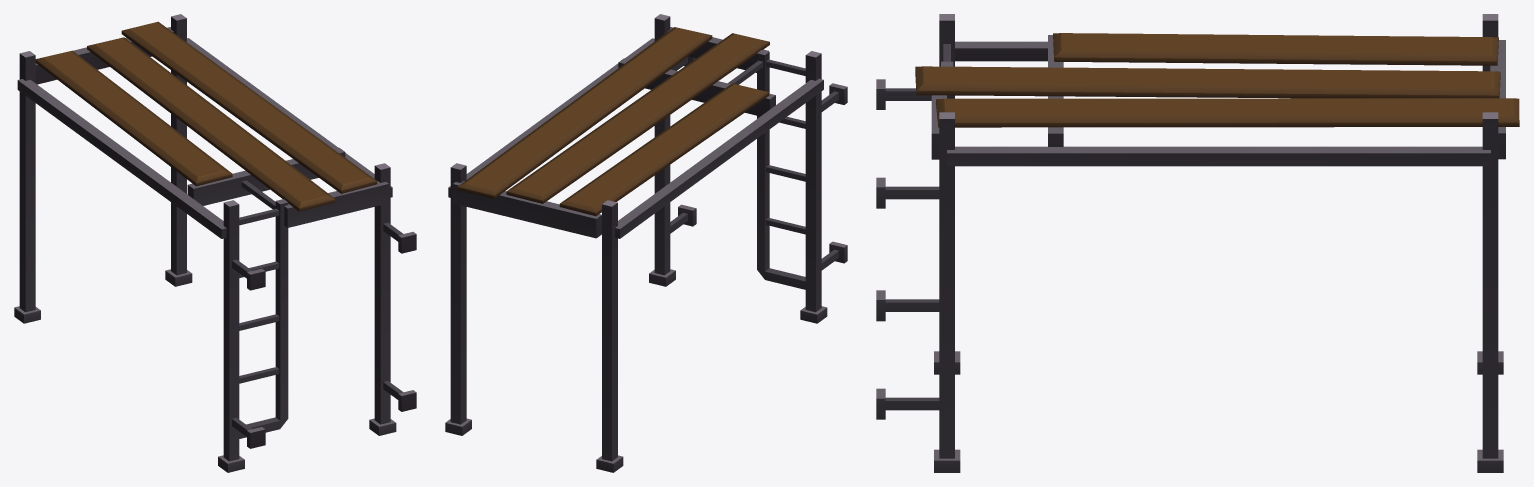
The model's file is Scaffolding_1B.fbx.
The picture shows the model from 3 angles, left to right: view 1: azimuth 30°, elevation 25°; view 2: azimuth 150°, elevation 25°; view 3: azimuth 270°, elevation 25°; orthographic projection. The views are drawn at different scales.
Parts seen in each view (by area): view 1: Scaffolding_1B; view 2: Scaffolding_1B; view 3: Scaffolding_1B.
Boxes of the visible parts, x1,y1,x2,y2 form: Scaffolding_1B: [14, 14, 416, 472]; Scaffolding_1B: [445, 14, 847, 472]; Scaffolding_1B: [876, 14, 1519, 472].
Bounding box in the file's own units: 3.4 × 5 × 8.28.
